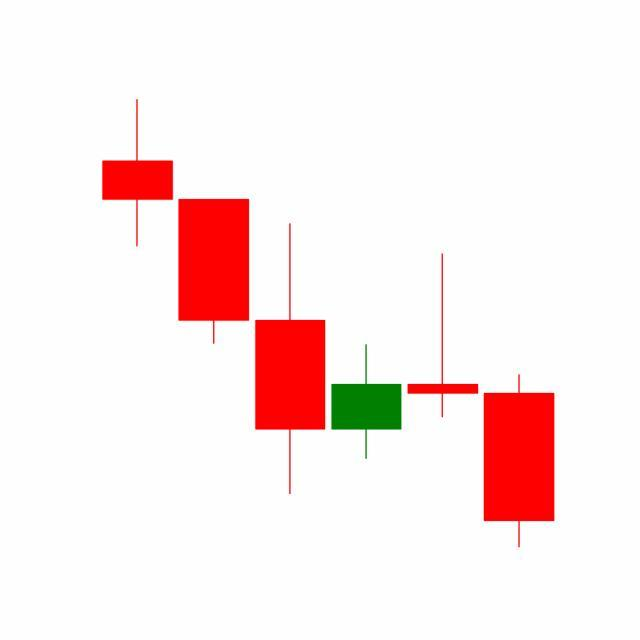Gravestone Doji: (404, 253, 482, 420)
